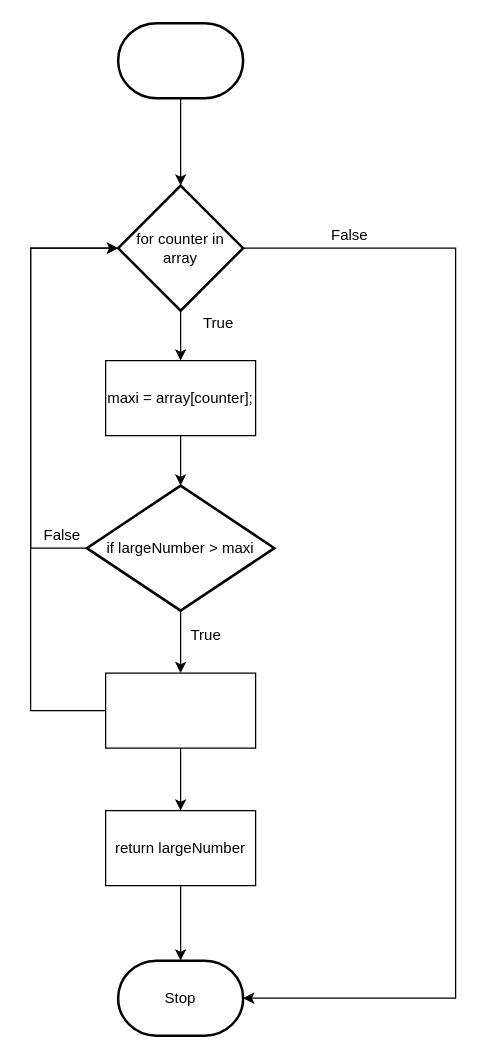
Image size: 488x1058. Some labels were removed from this diagram. The box of each missing label's shape, as (x1, y1, x2, y2) in pixels:
largeNumber = maxi: (104, 672, 256, 748)
Start: (116, 21, 244, 99)
